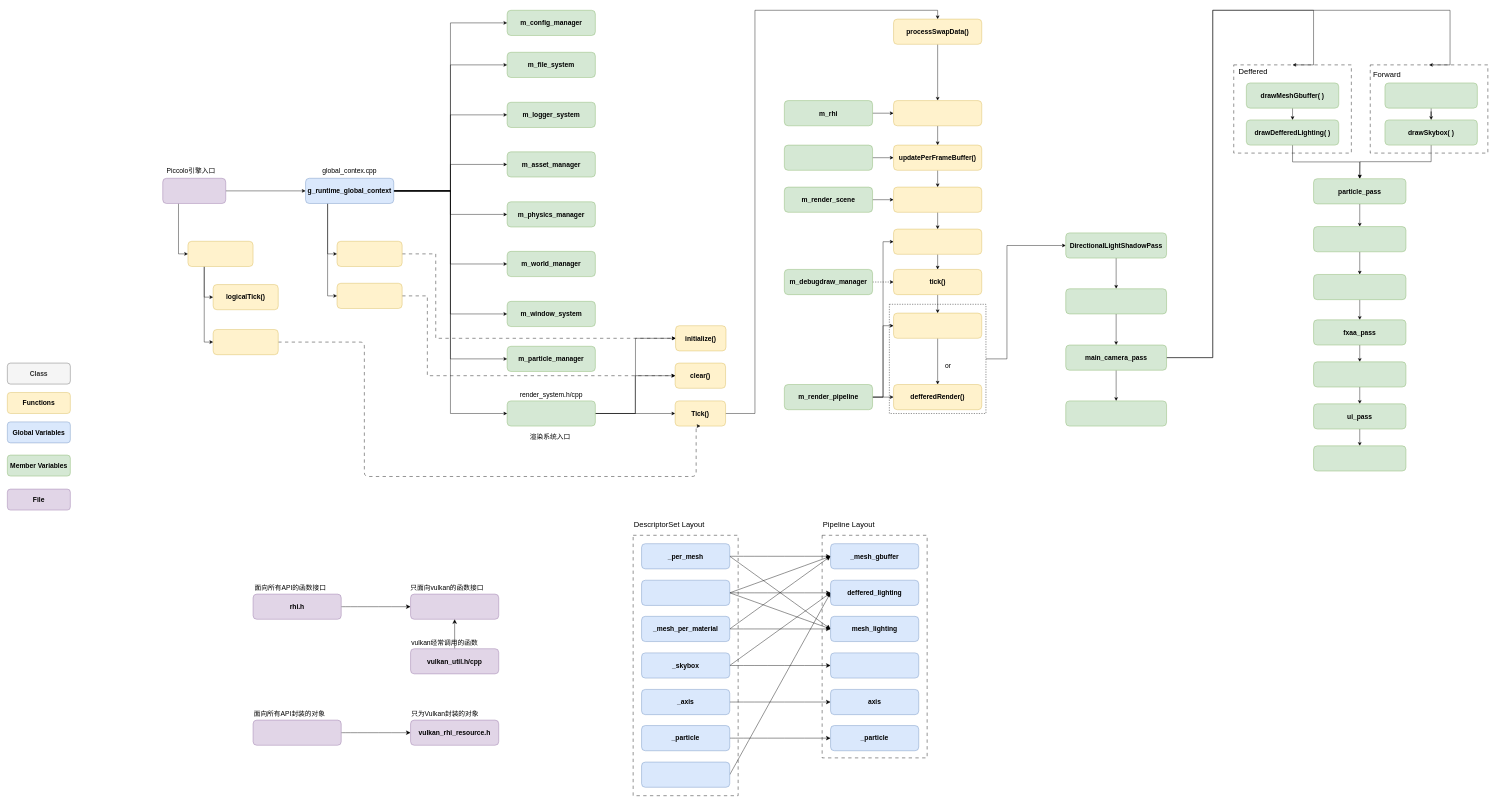
Image size: 1495x803. Some labels were removed from this diagram. The shapes that lost their labels are listed below. From the top down, each one's centre as x and y in pixels, then its label:
At pixel 937 113: "prepareContext()".
At pixel 1431 95: "drawMeshLighting( )".
At pixel 828 157: "m_render_resource".
At pixel 194 190: "engine.h/cpp".
At pixel 937 199: "updateVisibleObjects()".
At pixel 220 253: "tickOneFrame()".
At pixel 369 253: "startSystem()".
At pixel 937 241: "preparePassDate()".
At pixel 1359 239: "tone_mapping_pass".
At pixel 369 295: "shutdownSystem()".
At pixel 1116 301: "PointLightShaowPass".
At pixel 1359 287: "color_grading_pass".
At pixel 245 342: "renderTick()".
At pixel 937 325: "forwardRender()".
At pixel 1359 374: "drawAxis( )".
At pixel 551 413: "m_render_system".
At pixel 1116 413: "debugdraw_manager".
At pixel 1359 458: "combine_ui_pass".
At pixel 454 606: "vulkan_rhi.h/cpp".
At pixel 685 592: "_mesh_global".
At pixel 874 665: "skybox".
At pixel 297 732: "rhi_struct.h".
At pixel 685 774: "_deffered_lighting".
